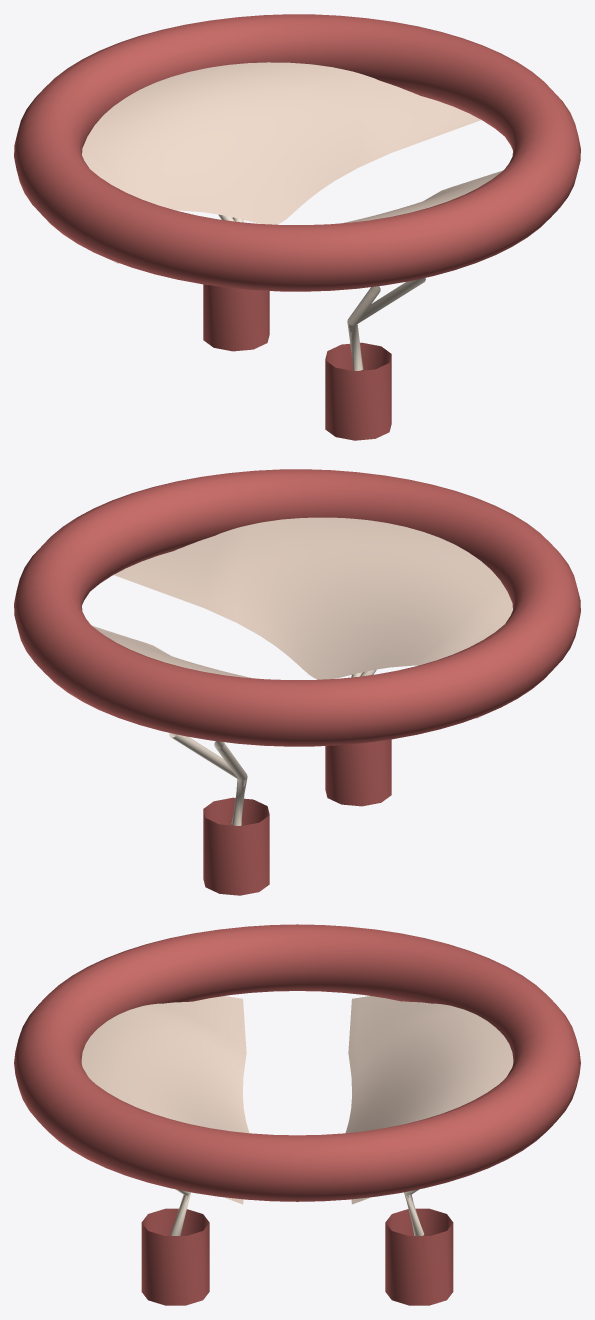
Rendered from mitral.glb.
3 views of the same model, one above another, from view 1: azimuth 30°, elevation 25°; view 2: azimuth 150°, elevation 25°; view 3: azimuth 270°, elevation 25° (orthographic).
Parts seen in each view (by area): view 1: AnnulusMitral, LeafletMitral2, PapillaryMitral1, PapillaryMitral2, LeafletMitral1, ChordaeMitral1B, ChordaeMitral1A; view 2: AnnulusMitral, LeafletMitral1, PapillaryMitral2, PapillaryMitral1, LeafletMitral2, ChordaeMitral2A, ChordaeMitral2B; view 3: AnnulusMitral, LeafletMitral1, LeafletMitral2, PapillaryMitral2, PapillaryMitral1.
Boxes of the visible parts, x1,y1,x2,y2 form: AnnulusMitral: (14,14,580,291); LeafletMitral2: (82,62,480,224); PapillaryMitral1: (325,342,391,440); PapillaryMitral2: (203,284,269,351); LeafletMitral1: (114,170,502,263); ChordaeMitral1B: (347,286,380,370); ChordaeMitral1A: (349,278,425,362); AnnulusMitral: (14,469,580,746); LeafletMitral1: (114,517,512,679); PapillaryMitral2: (203,797,269,895); PapillaryMitral1: (325,739,391,806); LeafletMitral2: (92,625,480,718); ChordaeMitral2A: (214,741,247,825); ChordaeMitral2B: (169,733,245,810); AnnulusMitral: (14,924,580,1201); LeafletMitral1: (81,996,249,1204); LeafletMitral2: (345,996,513,1204); PapillaryMitral2: (385,1208,453,1305); PapillaryMitral1: (141,1208,209,1305).
Bounding box in the file's own units: 2 × 1.01 × 2.
